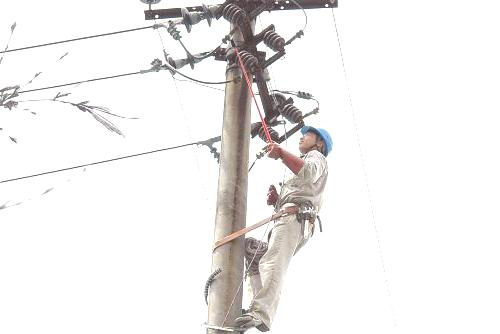person: (232, 126, 339, 330)
